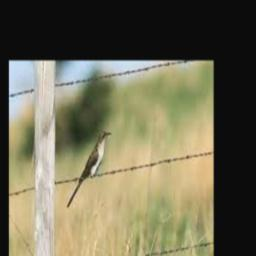Cuckoo: (67, 130, 113, 208)
